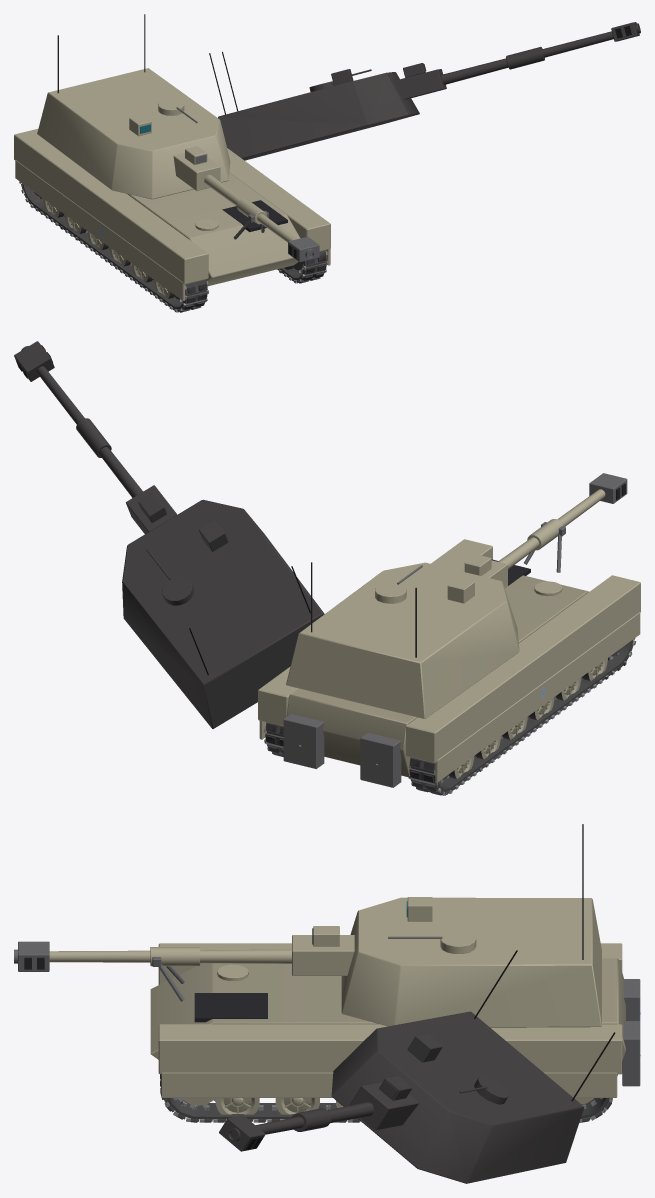
Rendered from artillery__as_90_archer.glb.
3 views of the same model, one above another, from view 1: azimuth 30°, elevation 25°; view 2: azimuth 150°, elevation 25°; view 3: azimuth 270°, elevation 25° (orthographic). The views are drawn at different scales.
Visible parts, largest first — view 1: Hull_Mesh, Turret_Mesh, Wreck, Gun_Mesh, Track_L_Mesh, Track_R_Mesh; view 2: Wreck, Hull_Mesh, Turret_Mesh, Track_L_Mesh, Gun_Mesh; view 3: Hull_Mesh, Wreck, Turret_Mesh, Gun_Mesh, Track_R_Mesh, Wheel_R5_Mesh, Wheel_R4_Mesh.
Part boxes in pixels (x1,y1,x2,y2): Hull_Mesh: (14,129,330,300); Turret_Mesh: (37,14,230,199); Wreck: (20,22,640,312); Gun_Mesh: (173,146,319,262); Track_L_Mesh: (19,181,208,312); Track_R_Mesh: (277,250,328,283); Wreck: (14,341,635,795); Hull_Mesh: (258,522,640,787); Turret_Mesh: (286,562,519,718); Track_L_Mesh: (408,638,635,795); Gun_Mesh: (460,473,627,587); Hull_Mesh: (150,943,640,1097); Wreck: (160,950,615,1183); Turret_Mesh: (341,824,601,1027); Gun_Mesh: (14,926,354,975); Track_R_Mesh: (160,1074,612,1122); Wheel_R5_Mesh: (215,1098,259,1114); Wheel_R4_Mesh: (275,1098,319,1114).
Size of what is drawn, in the model's own units: 11.92 by 3.88 by 9.81.
